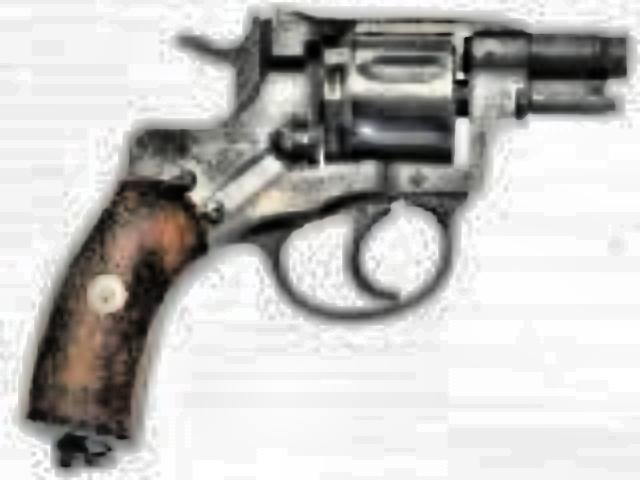pistol: (12, 0, 624, 440)
